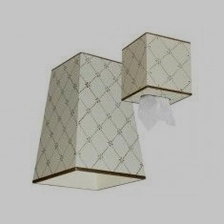plastic_box: (26, 47, 151, 198), (115, 29, 196, 111)
tissue: (130, 90, 179, 137)
